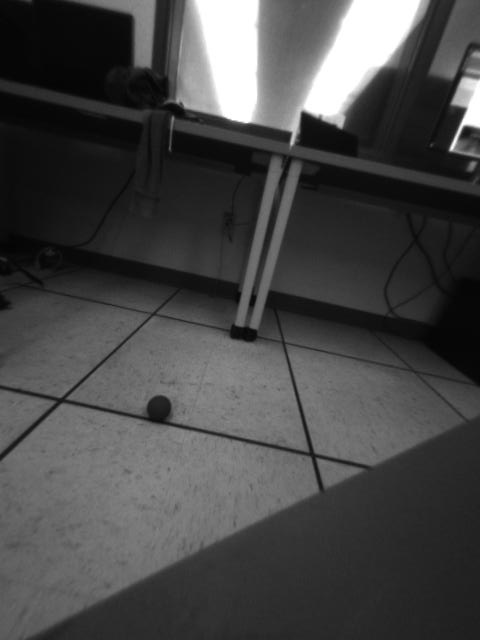dogtoy: (136, 387, 182, 429)
